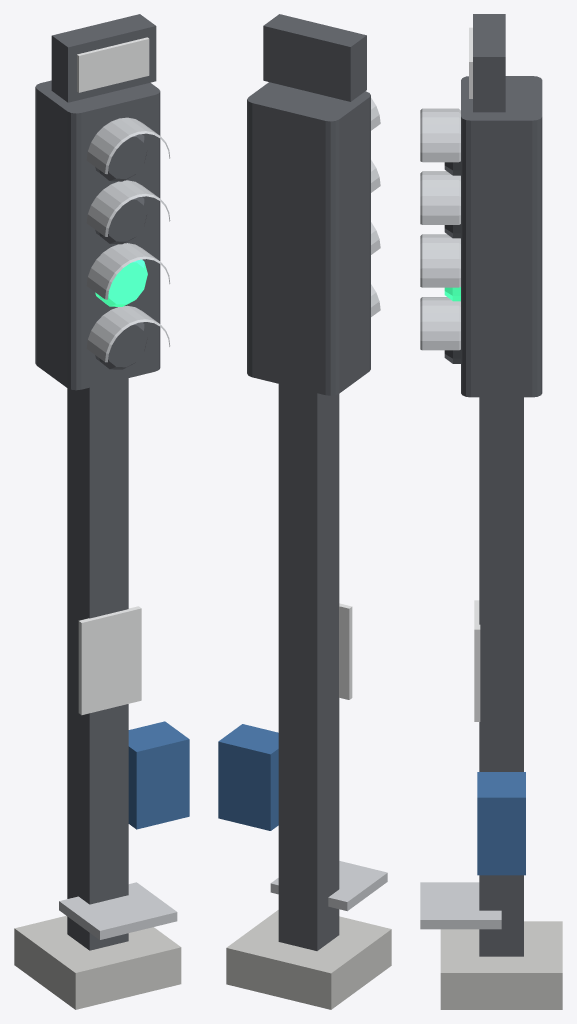
Rendered from modern-rail-and-metro-network-colour-light-signal-clea-0d88cff8.glb.
The picture shows the model from 3 angles, left to right: view 1: azimuth 30°, elevation 25°; view 2: azimuth 150°, elevation 25°; view 3: azimuth 270°, elevation 25°; orthographic projection.
Visible parts, largest first — view 1: colour-light-signal-clear; view 2: colour-light-signal-clear; view 3: colour-light-signal-clear.
Boxes of the visible parts, x1,y1,x2,y2 form: colour-light-signal-clear: (14,14,189,1009); colour-light-signal-clear: (218,14,391,1009); colour-light-signal-clear: (420,14,562,1009).
Bounding box in the file's own units: 0.75 × 5.14 × 0.7001.
